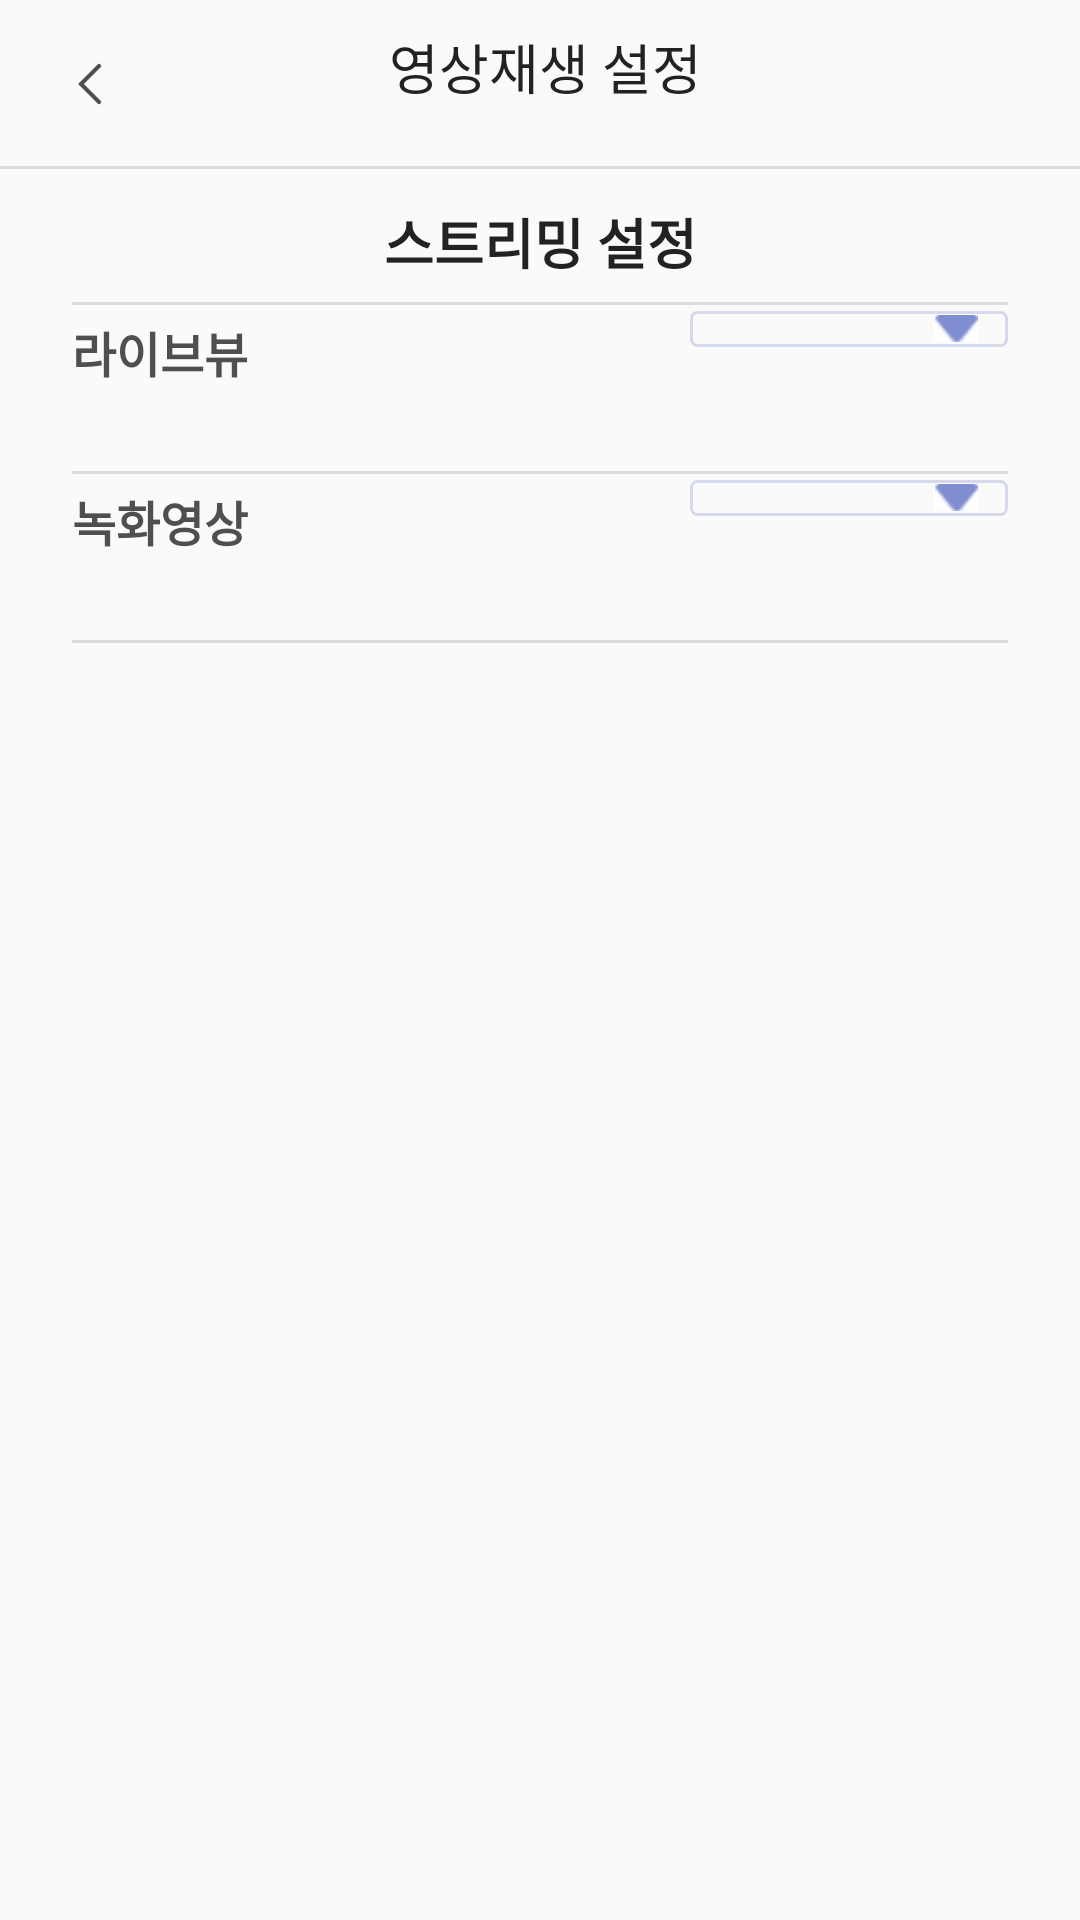

Screen size 1080×1920. Icon name, then its center in pixels as [x,y]:
arrow: [89,84]
